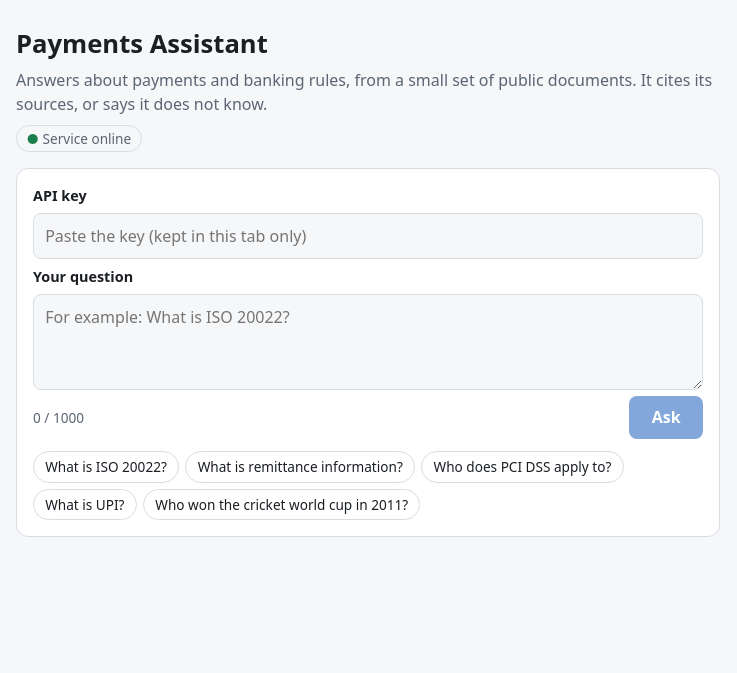
feedback › posts the rating with the request id and thanks the user
In the password field labelled "API key": [368, 236] box [33,213,703,259], type "k"
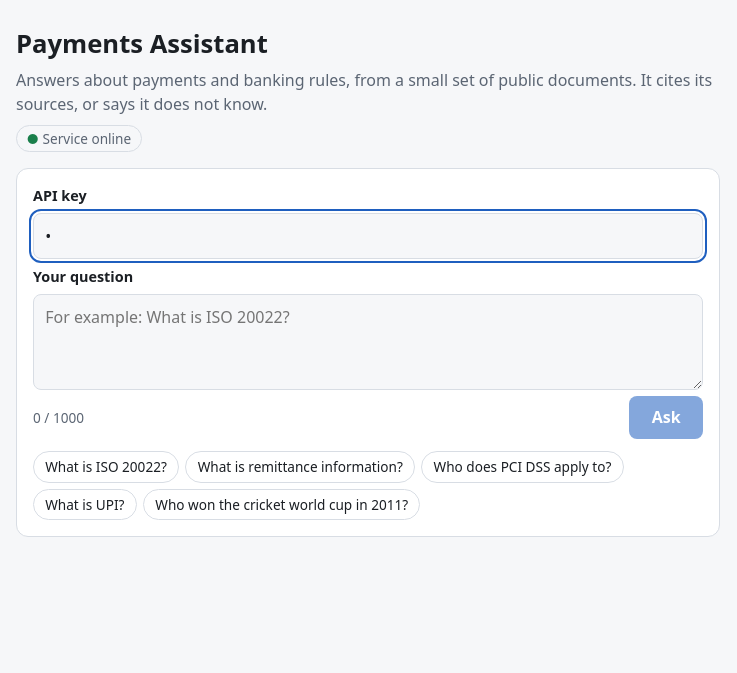
In the text box labelled "Your question": [368, 342] box [33,294,703,390], type "What is ISO 20022?"
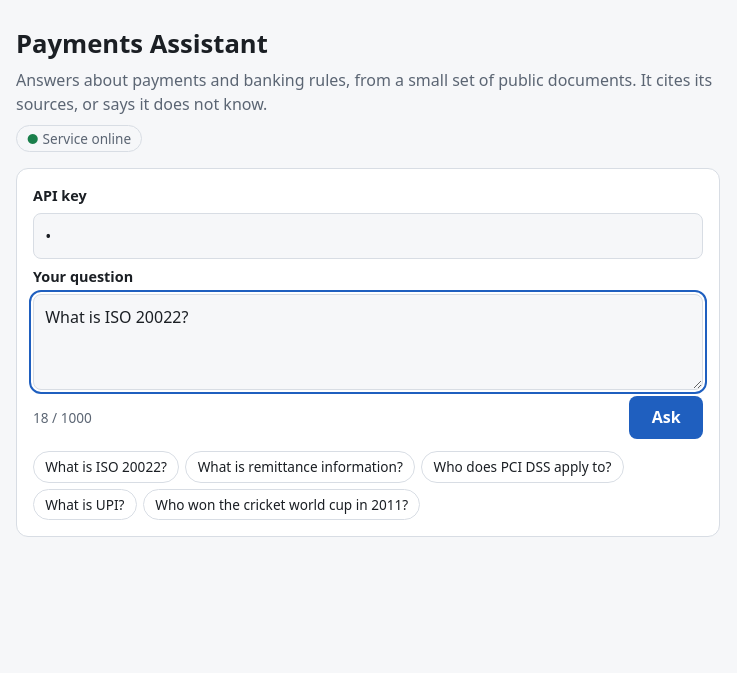
Click the button "Ask": [666, 418] box [629,396,703,439]
(page scrolled)
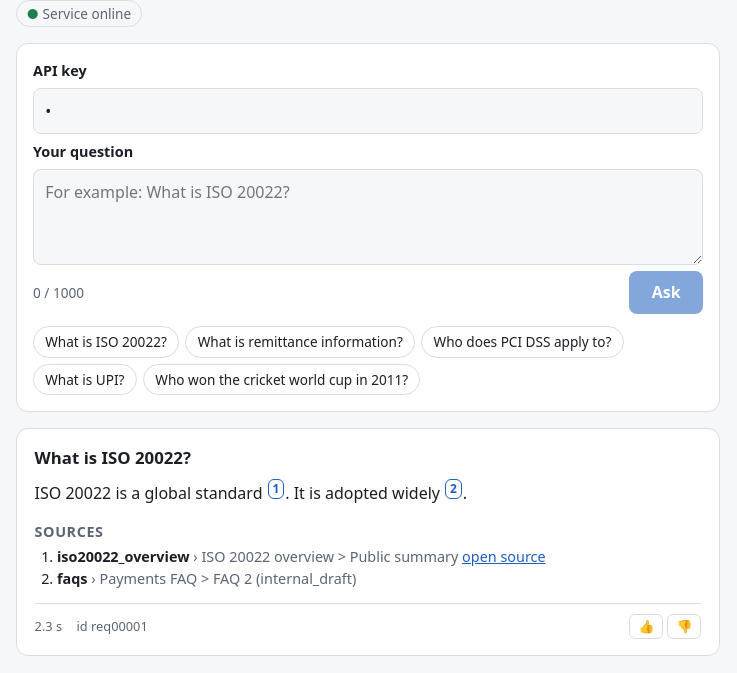
Click the button named "This answer was helpful": [646, 627] box [630,614,664,639]
(page scrolled)
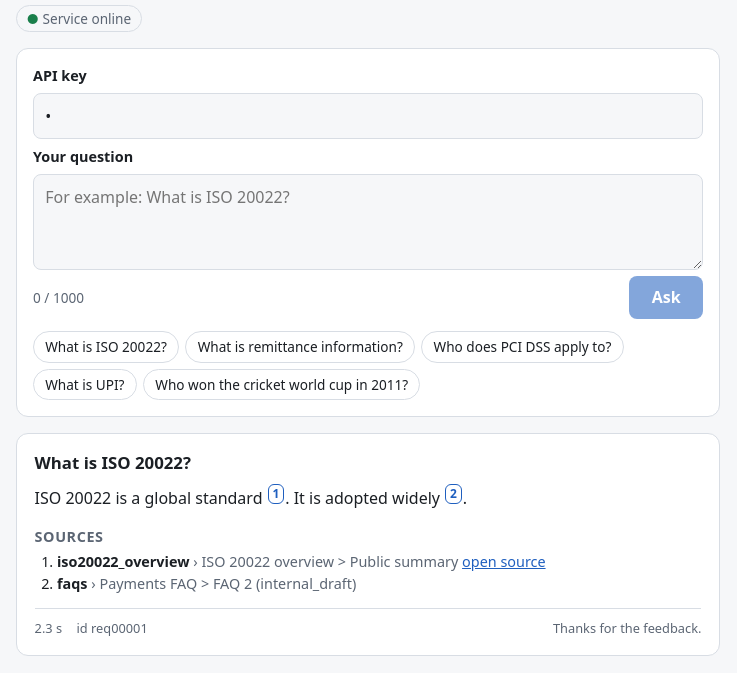
Now the text "Thanks for the feedback." is shown, box [553,619,701,637]
